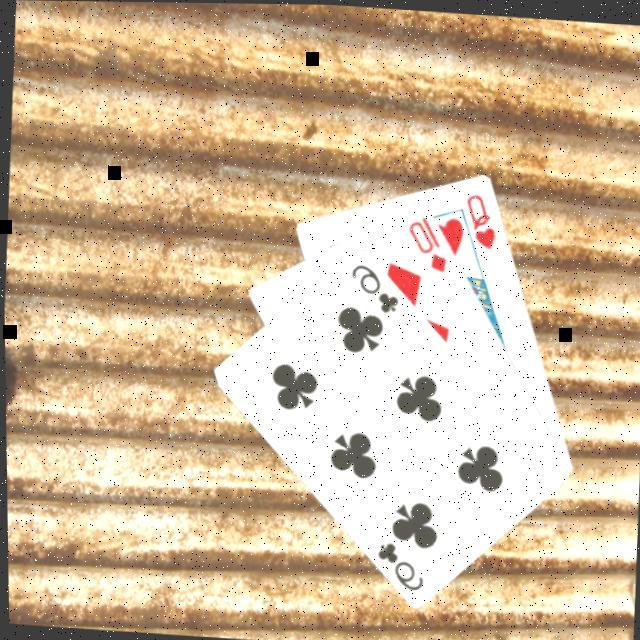10D: (404, 210, 454, 274)
6C: (347, 257, 405, 315), (372, 534, 429, 592)
QH: (462, 187, 502, 250)
